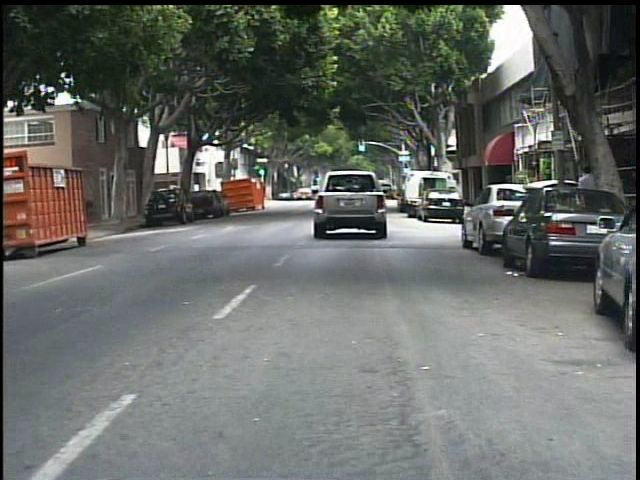person: (571, 159, 602, 240)
